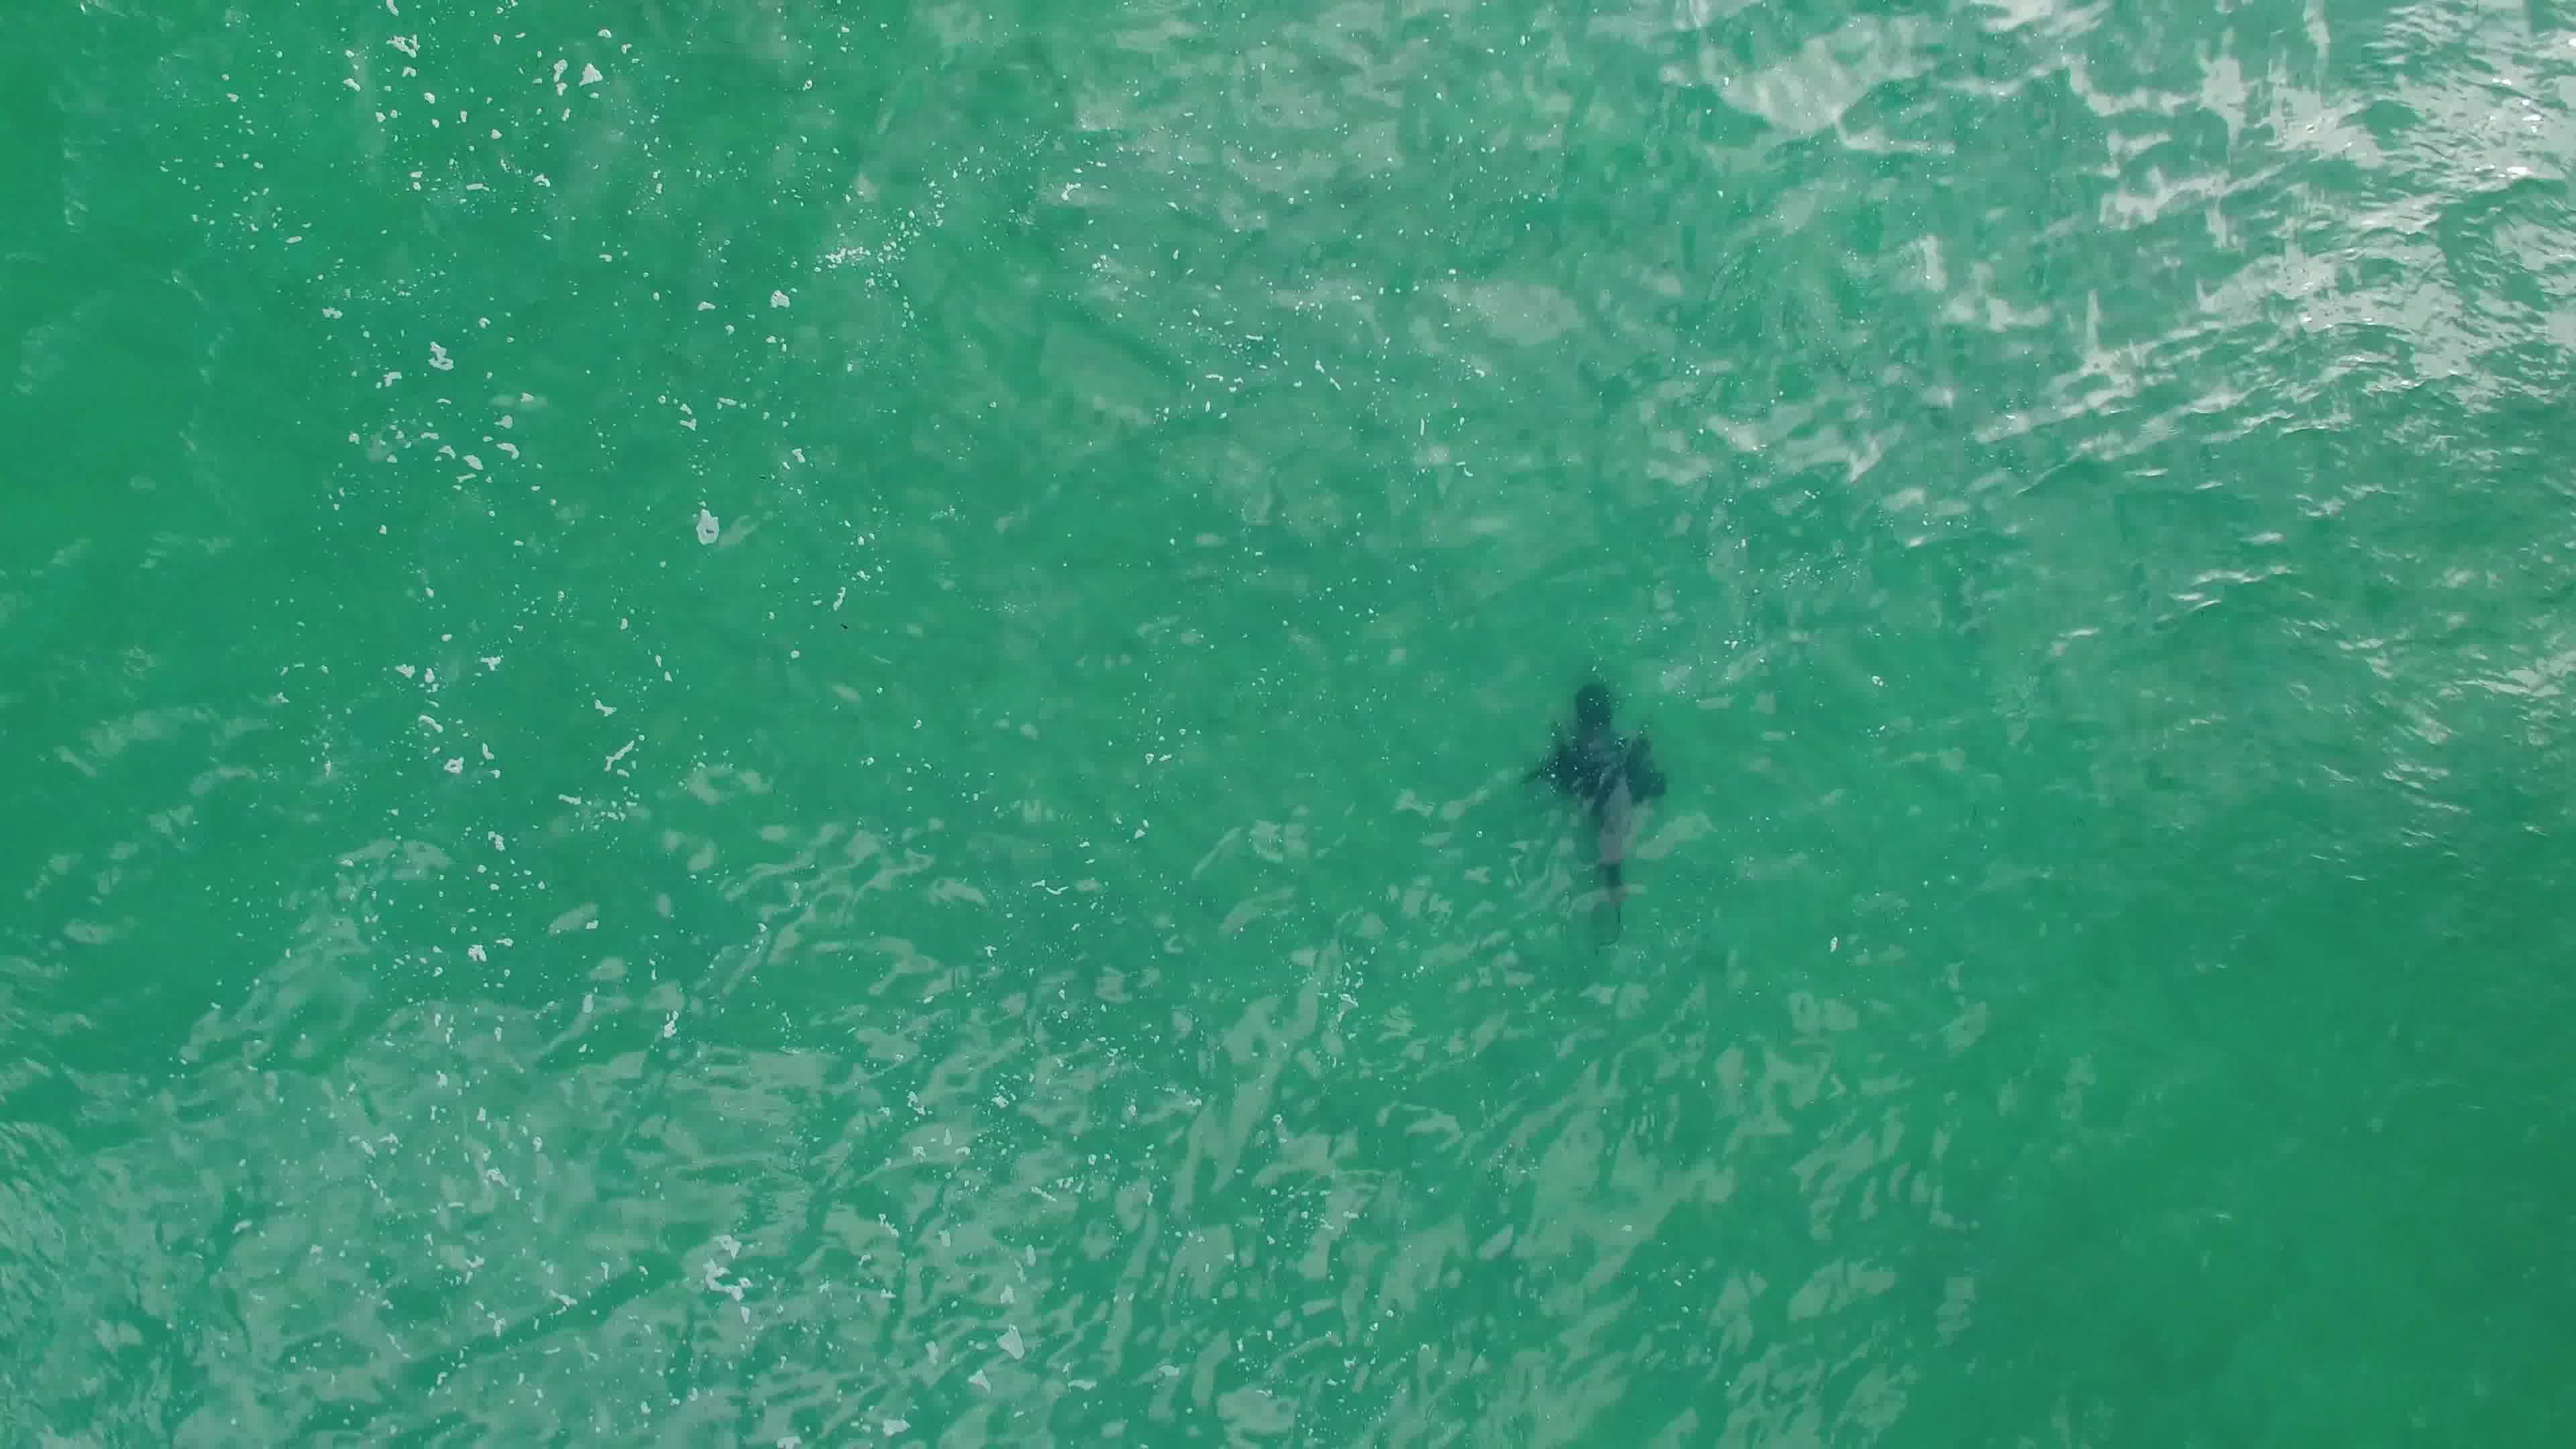shark: (1516, 678, 1679, 931)
